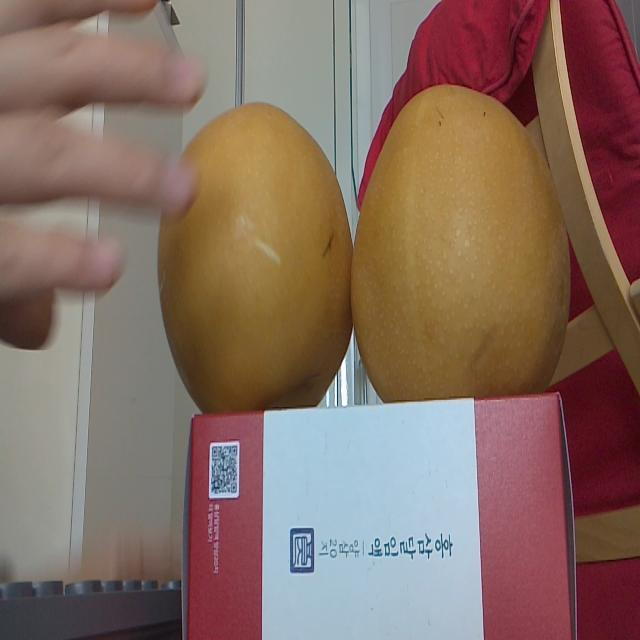pear: (352, 84, 573, 402), (158, 98, 352, 406)
